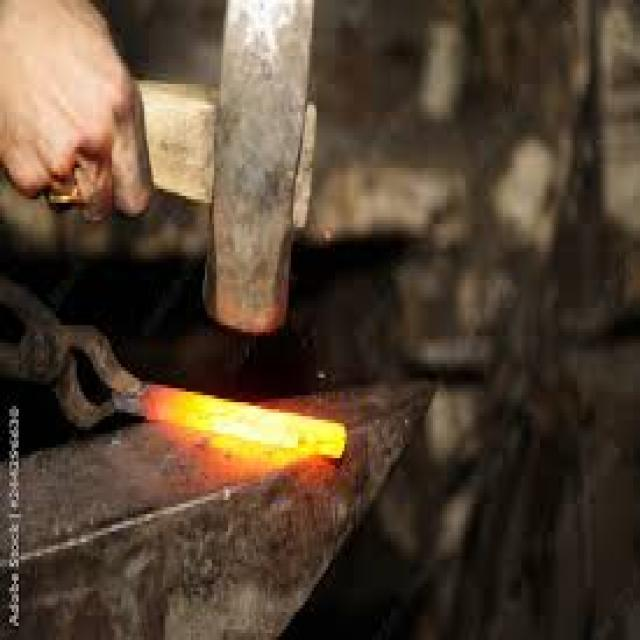hammer: (126, 0, 330, 364)
